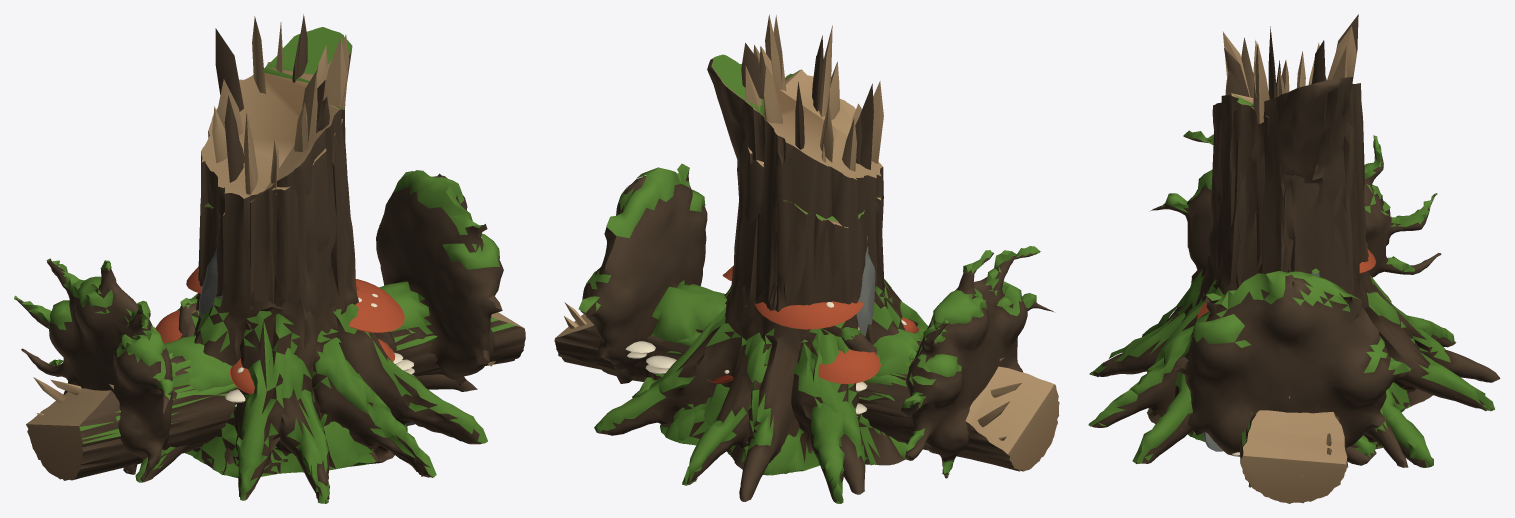
The model's file is glade_props.glb.
The picture shows the model from 3 angles, left to right: view 1: azimuth 30°, elevation 25°; view 2: azimuth 150°, elevation 25°; view 3: azimuth 270°, elevation 25°; orthographic projection.
Parts seen in each view (by area): view 1: StumpB__bark, StumpA__bark, LogB__bark, LogC__bark, StumpB__moss, StumpB__wood, LogA__bark, StumpA__moss, LogB__moss, LogA__wood, LogC__moss, ShroomB__cap (+4 smaller); view 2: StumpB__bark, StumpA__bark, LogC__bark, LogB__bark, StumpA__moss, StumpB__moss, LogB__moss, LogA__wood, StumpB__wood, LogC__moss, LogA__bark, StumpA__wood (+4 smaller); view 3: StumpB__bark, LogB__bark, StumpA__bark, LogA__wood, StumpA__moss, LogC__bark, LogB__moss, StumpB__moss, LogC__moss, StumpB__wood, StumpA__wood.
Boxes of the visible parts, x1,y1,x2,y2 form: StumpB__bark: (193, 14, 482, 500); StumpA__bark: (139, 35, 477, 503); LogB__bark: (170, 173, 503, 453); LogC__bark: (15, 258, 442, 481); StumpB__moss: (176, 27, 487, 500); StumpB__wood: (201, 16, 352, 198); LogA__bark: (60, 303, 525, 480); StumpA__moss: (135, 106, 436, 503); LogB__moss: (164, 170, 499, 392); LogA__wood: (26, 312, 523, 480); LogC__moss: (14, 258, 174, 399); ShroomB__cap: (186, 266, 404, 394); StumpB__bark: (703, 43, 917, 502); StumpA__bark: (599, 35, 904, 494); LogC__bark: (594, 251, 1054, 478); LogB__bark: (580, 170, 921, 383); StumpA__moss: (594, 70, 907, 485); StumpB__moss: (649, 54, 928, 503); LogB__moss: (578, 163, 922, 376); LogA__wood: (555, 302, 1059, 471); StumpB__wood: (711, 15, 882, 179); LogC__moss: (666, 246, 1040, 474); LogA__bark: (554, 325, 1023, 471); StumpA__wood: (745, 14, 883, 227); StumpB__bark: (1135, 14, 1500, 467); LogB__bark: (1174, 275, 1408, 456); StumpA__bark: (1089, 48, 1493, 487); LogA__wood: (1240, 410, 1347, 503); StumpA__moss: (1088, 93, 1494, 467); LogC__bark: (1151, 135, 1441, 465); LogB__moss: (1192, 271, 1410, 374); StumpB__moss: (1132, 269, 1456, 463); LogC__moss: (1160, 130, 1437, 271); StumpB__wood: (1222, 26, 1356, 115); StumpA__wood: (1225, 37, 1347, 123).
Size of the model in its own units: 4.6 by 3.72 by 3.57.
